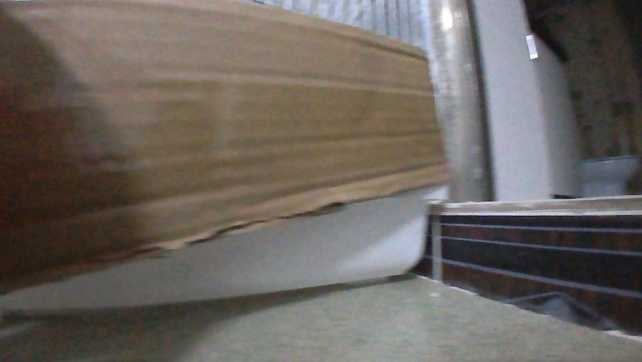toilet: (576, 152, 637, 195)
